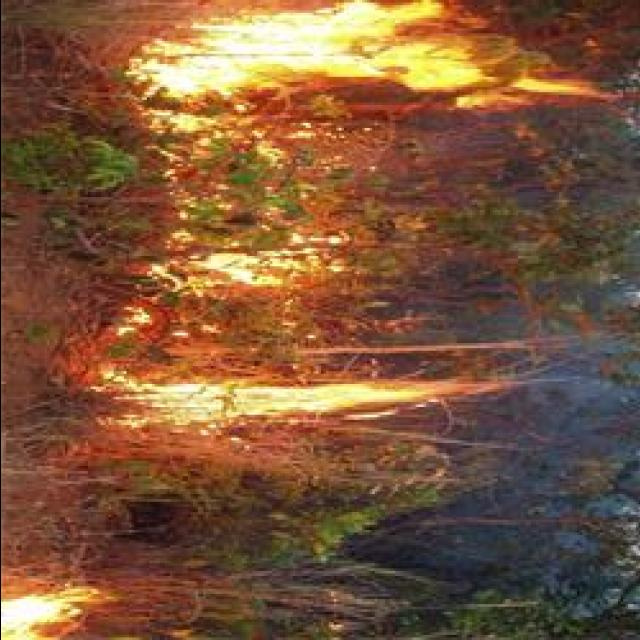fire: (129, 8, 500, 106), (116, 376, 435, 422), (0, 585, 104, 638), (212, 247, 302, 293)
